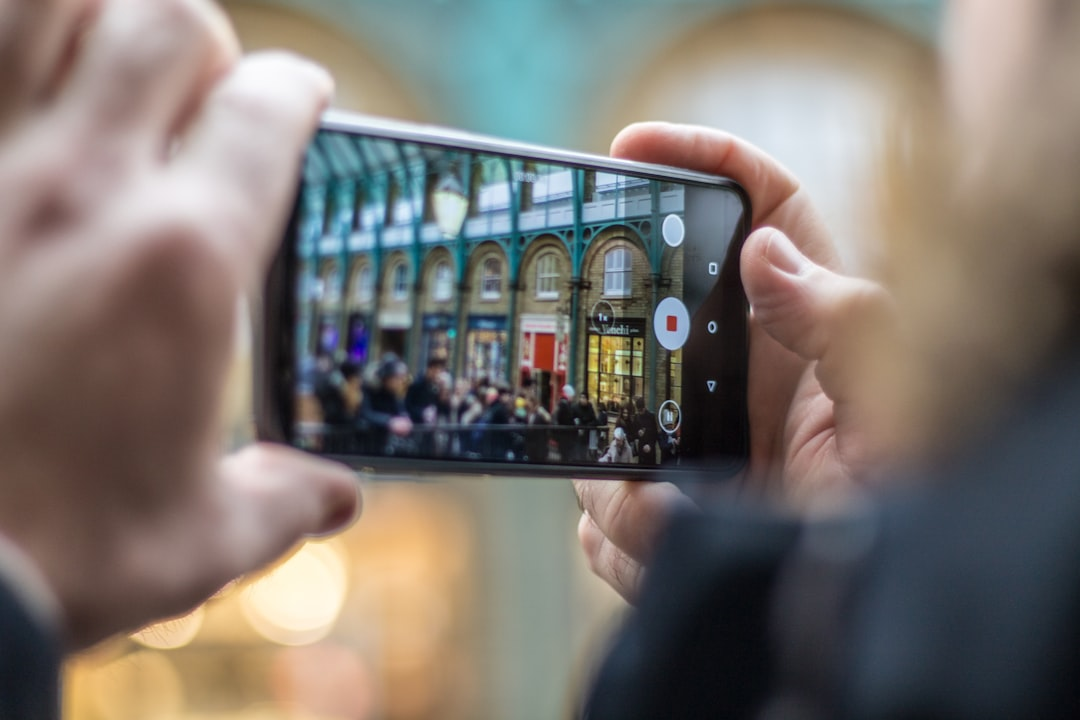phone: (262, 96, 753, 491)
